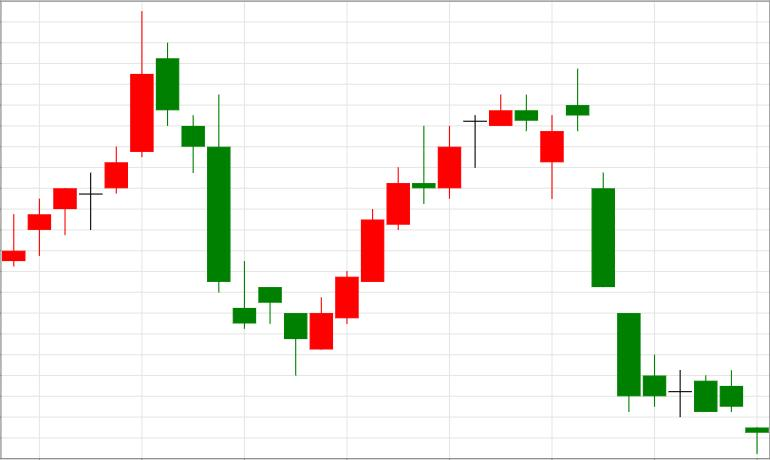three_black_crows_fall: (2, 11, 231, 293)
